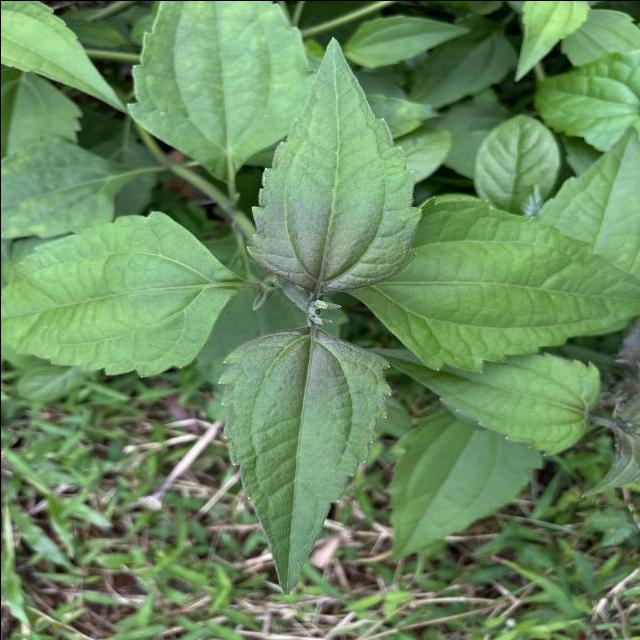Chromolaena odorata: (211, 320, 396, 600), (240, 32, 426, 302)
